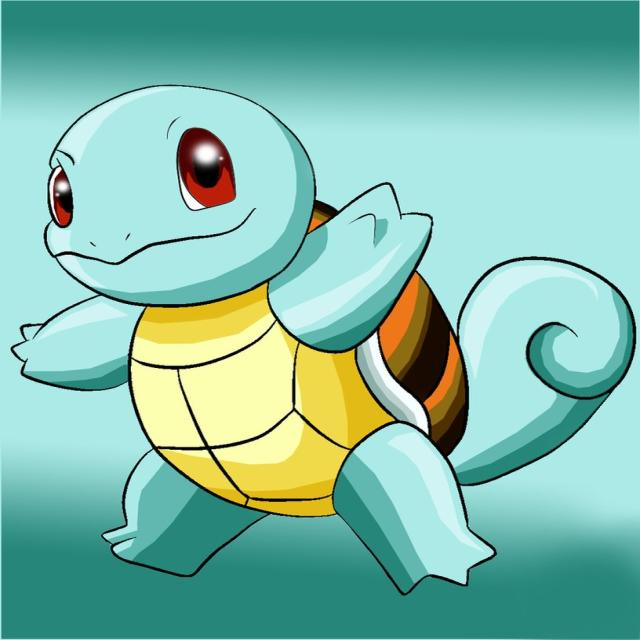Squirtle: (40, 94, 471, 532)
